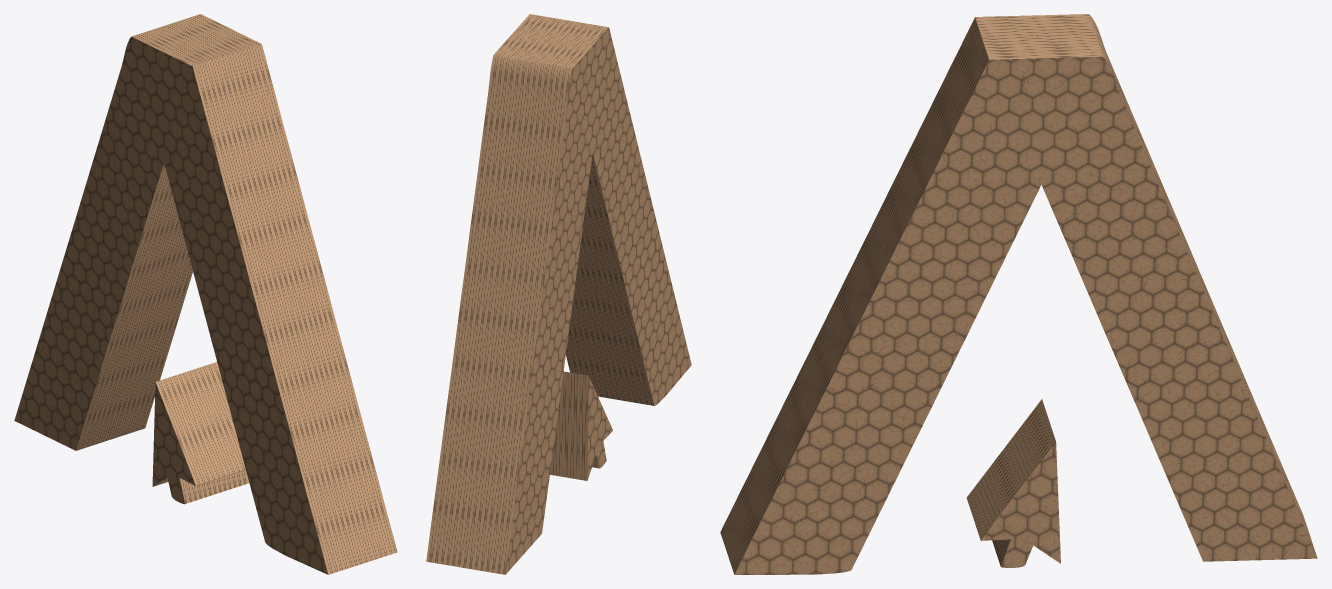
Rendered from androidtexture.glb.
The picture shows the model from 3 angles, left to right: view 1: azimuth 30°, elevation 25°; view 2: azimuth 150°, elevation 25°; view 3: azimuth 270°, elevation 25°; orthographic projection. The views are drawn at different scales.
Parts seen in each view (by area): view 1: Layer 1; view 2: Layer 1; view 3: Layer 1.
Boxes of the visible parts, bbox=[...] form: Layer 1: bbox=[14, 14, 397, 574]; Layer 1: bbox=[426, 14, 691, 574]; Layer 1: bbox=[720, 14, 1317, 574].
Bounding box in the file's own units: 0.0154 × 0.0485 × 0.0505.
Materials: 1 (1 with a texture image).
